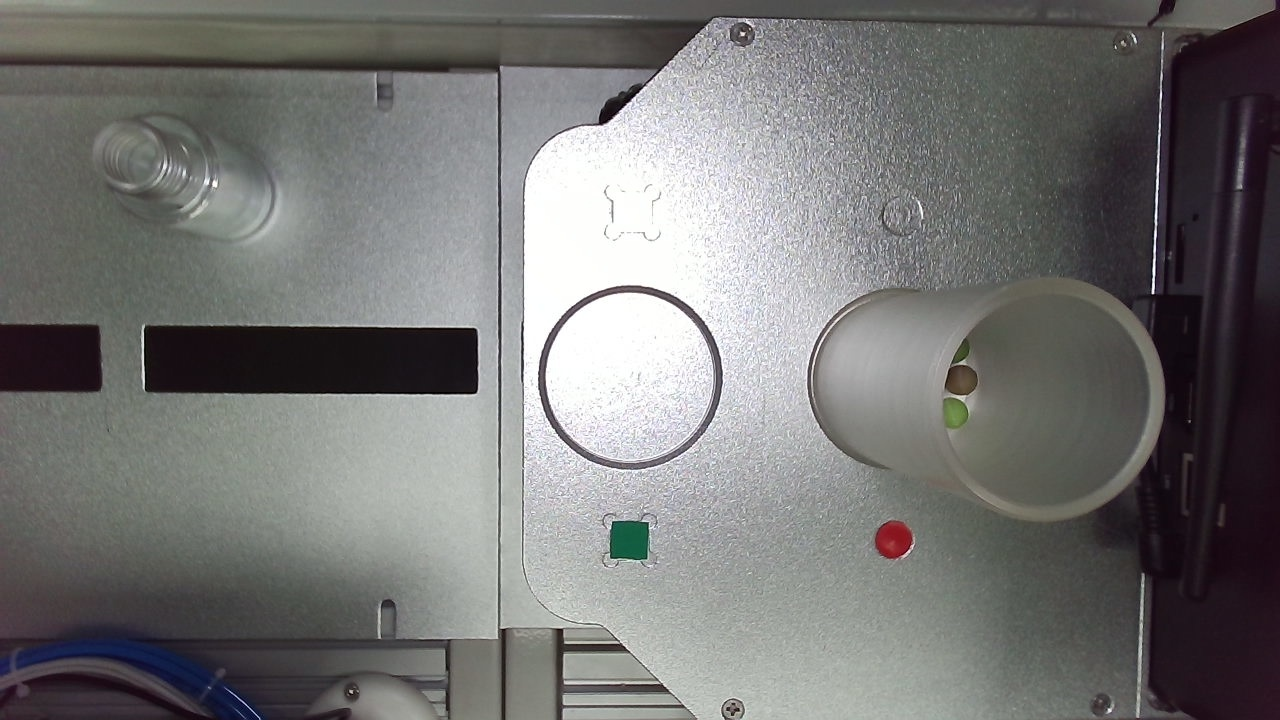XLabel: (450, 97, 516, 159)
none: (274, 227, 601, 553)
whiteempty: (745, 288, 1122, 669)
